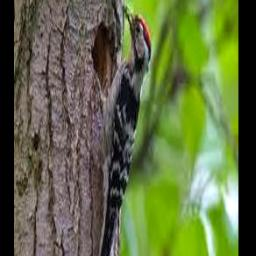Woodpecker: (92, 3, 151, 256)
